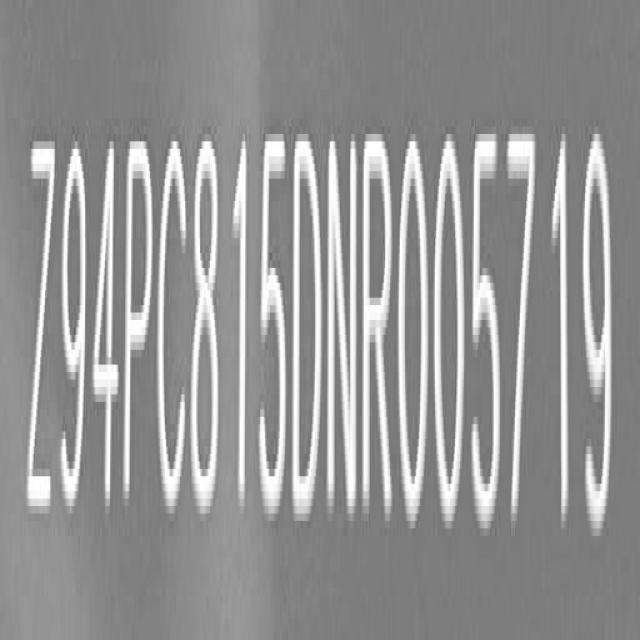0: (397, 130, 432, 532), (433, 129, 466, 536)
1: (550, 127, 574, 561), (231, 131, 252, 533)
4: (94, 140, 121, 527)
5: (470, 126, 503, 538), (258, 128, 290, 528)
7: (509, 121, 542, 547)
8: (192, 133, 225, 525)
9: (583, 128, 618, 549), (61, 137, 89, 528)
C: (157, 129, 188, 526)
D: (290, 110, 322, 532)
N: (330, 126, 362, 529)
P: (125, 132, 157, 526)
R: (362, 127, 396, 530)
Z: (23, 132, 57, 535)
